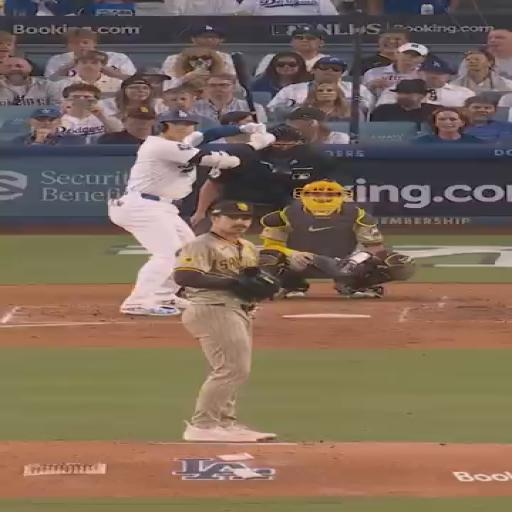bat: (232, 52, 258, 122)
